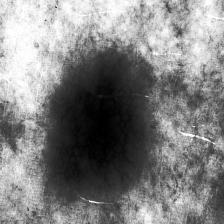Benign Marking or Mole: (51, 49, 140, 191)
